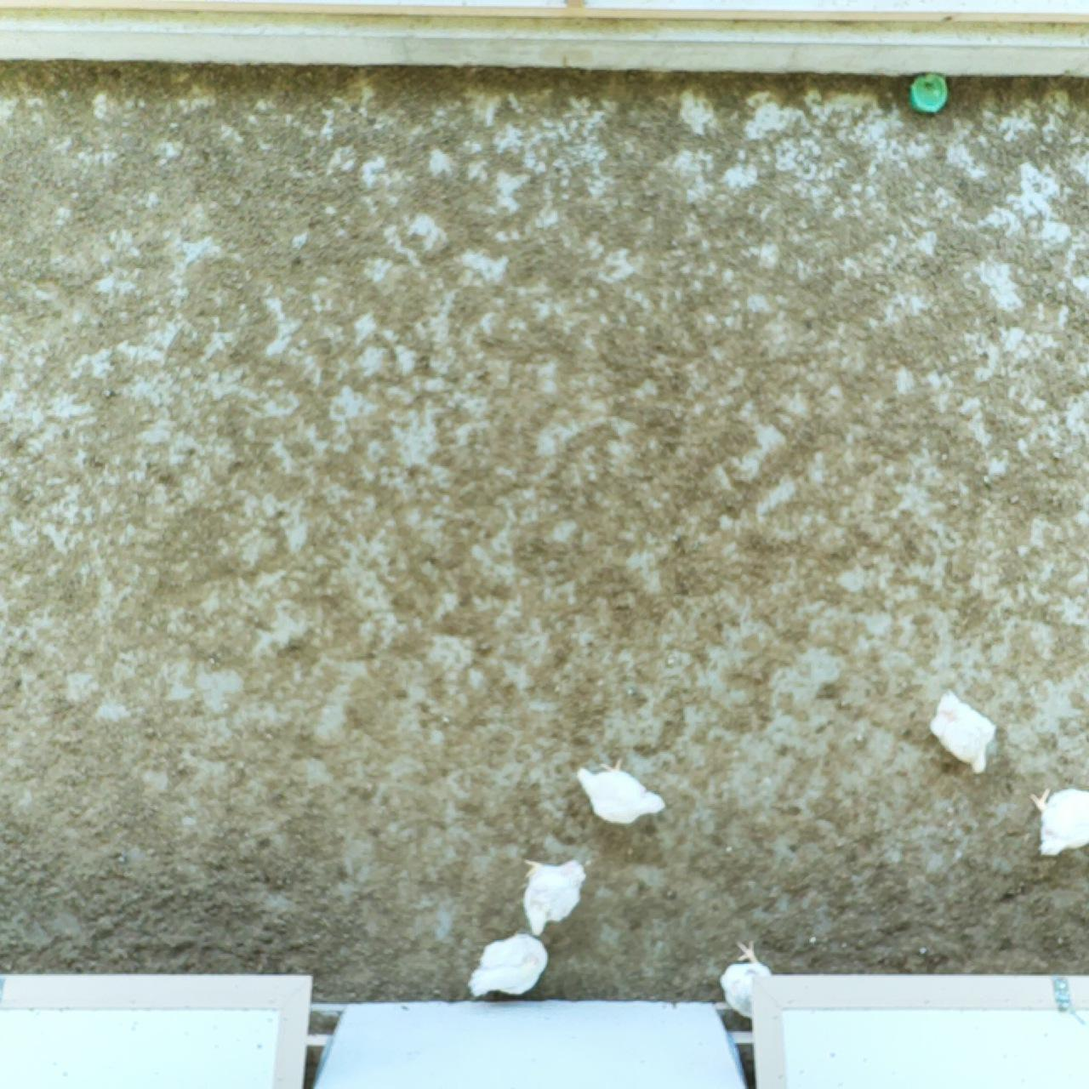chicken: (717, 938, 790, 1041), (571, 759, 667, 826), (463, 931, 549, 1003), (929, 687, 997, 777), (520, 855, 590, 937), (1026, 784, 1089, 857)
